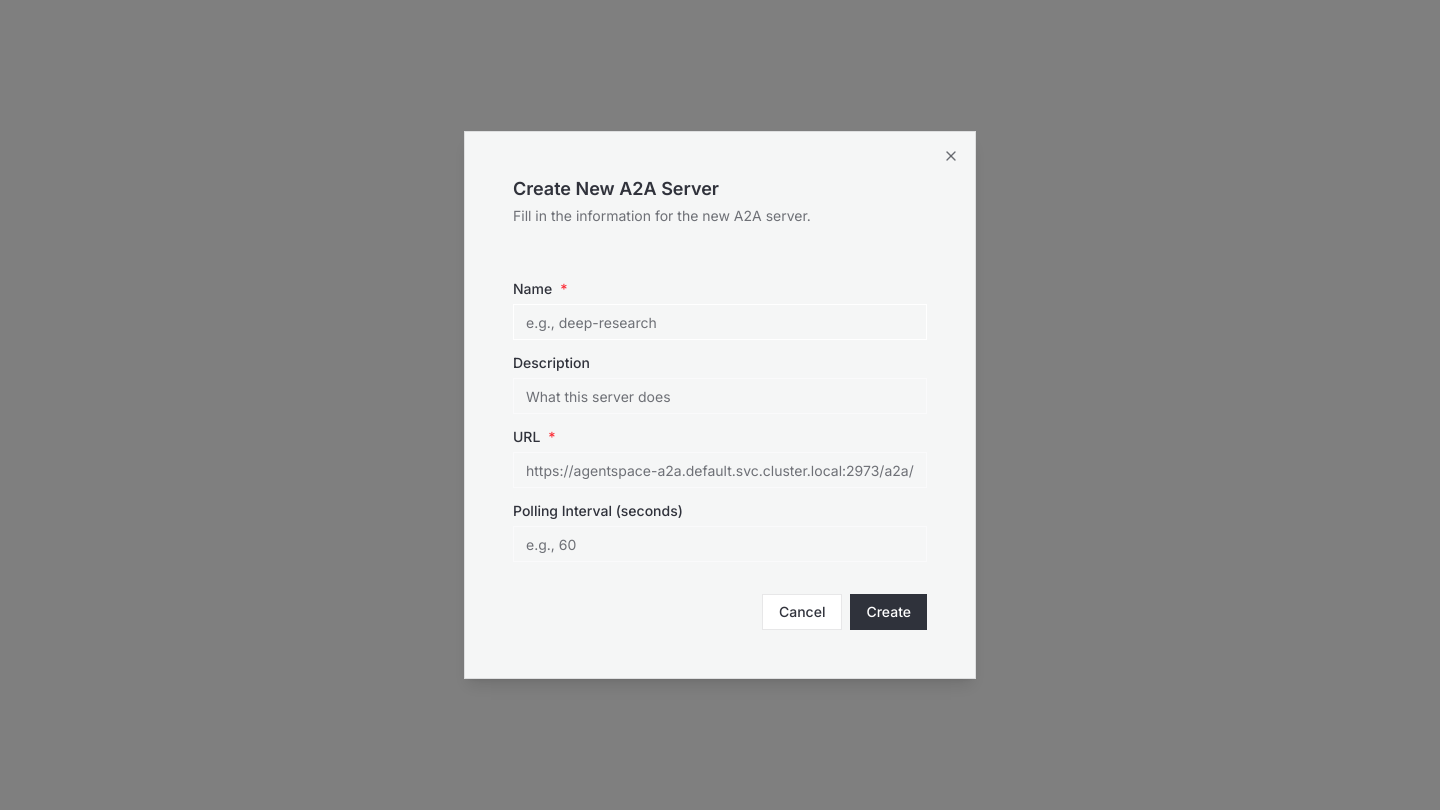
Test: A2AEditor › validation › should show error for invalid URL format
This screenshot has width=1440, height=810.
Type "valid-name" into the field with placeholder "e.g., deep-research" at [720, 322], box [513,304,927,340]
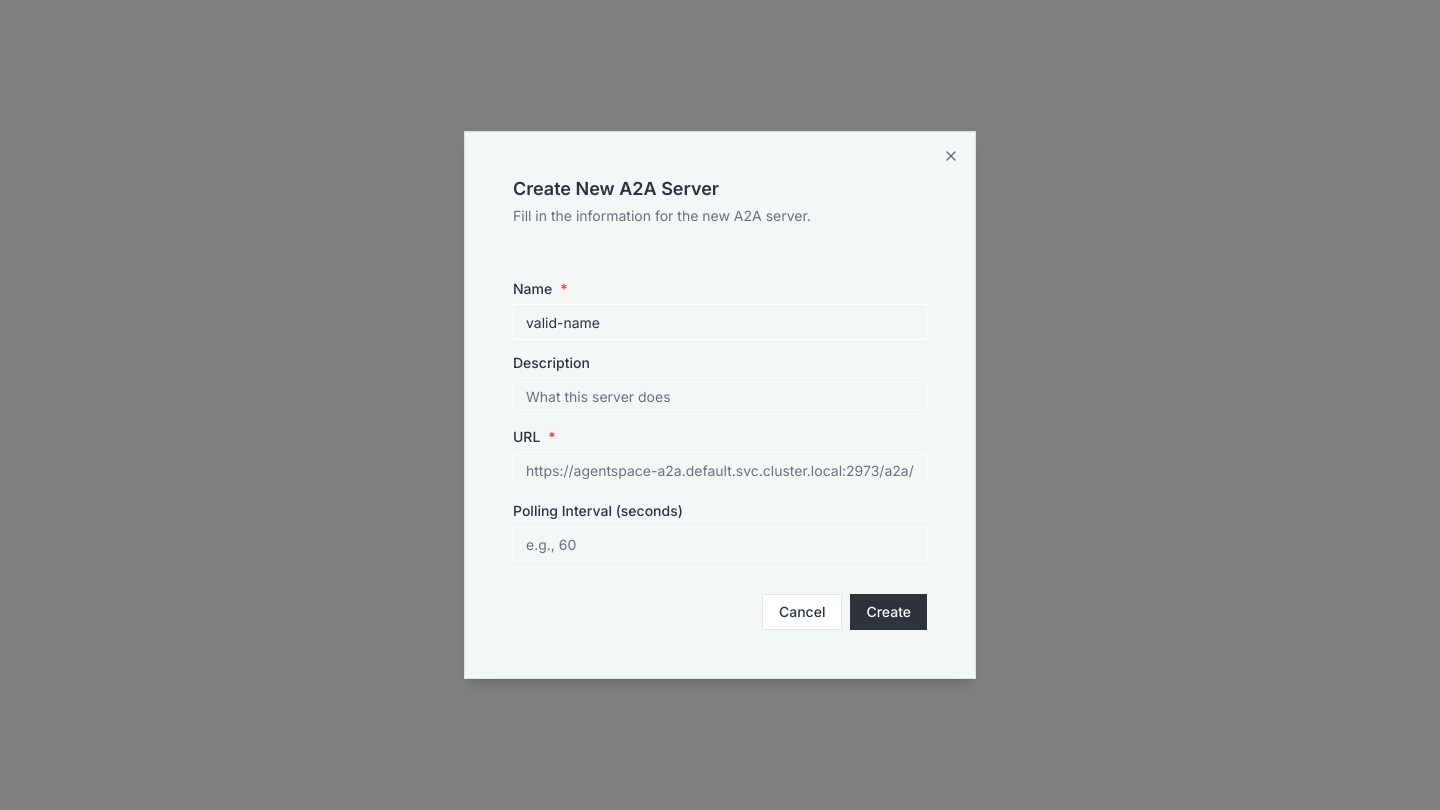
Type "not-a-valid-url" into the field with placeholder "https://agentspace-a2a" at [720, 470], box [513,452,927,488]
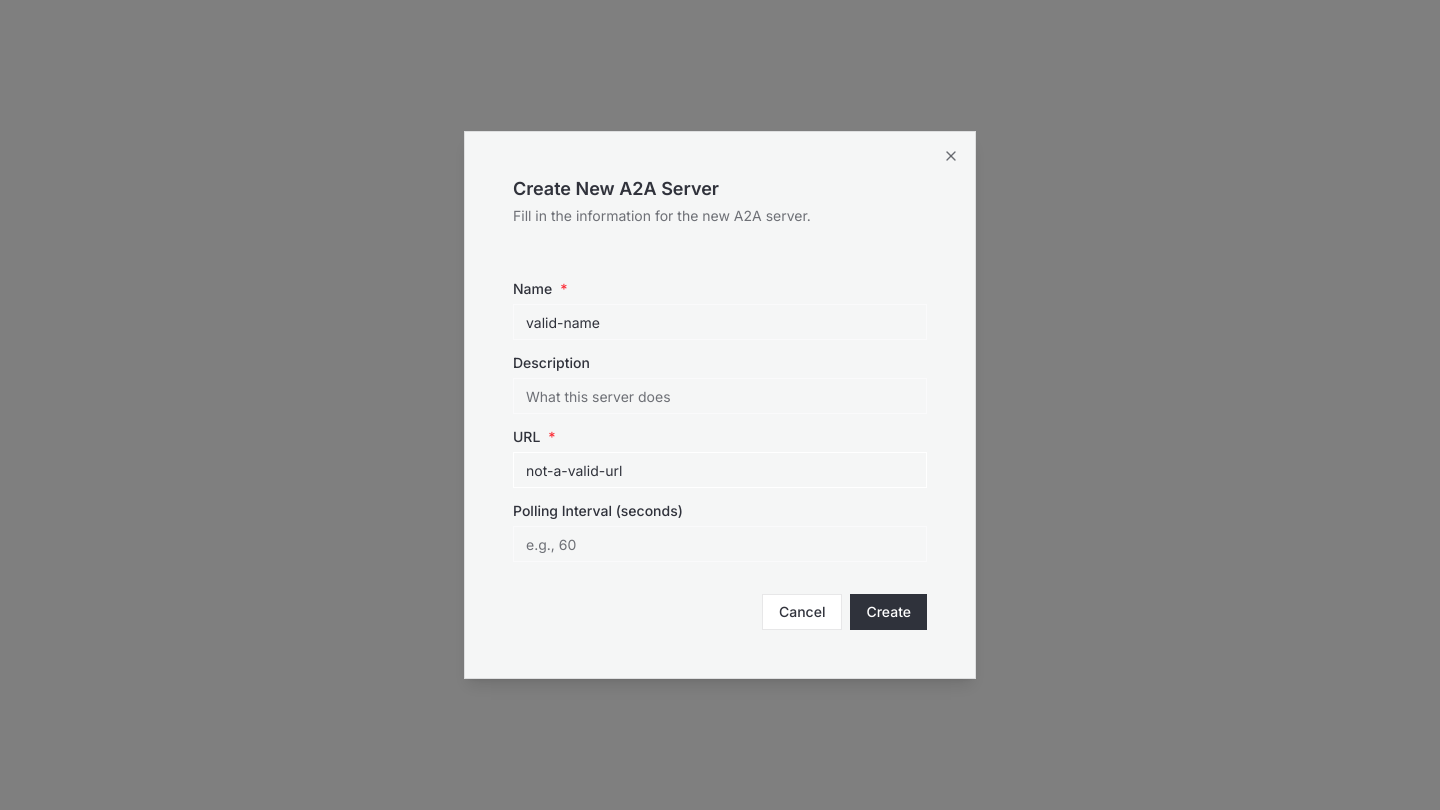
Click the button "Create" at [889, 612], box [850,594,927,630]
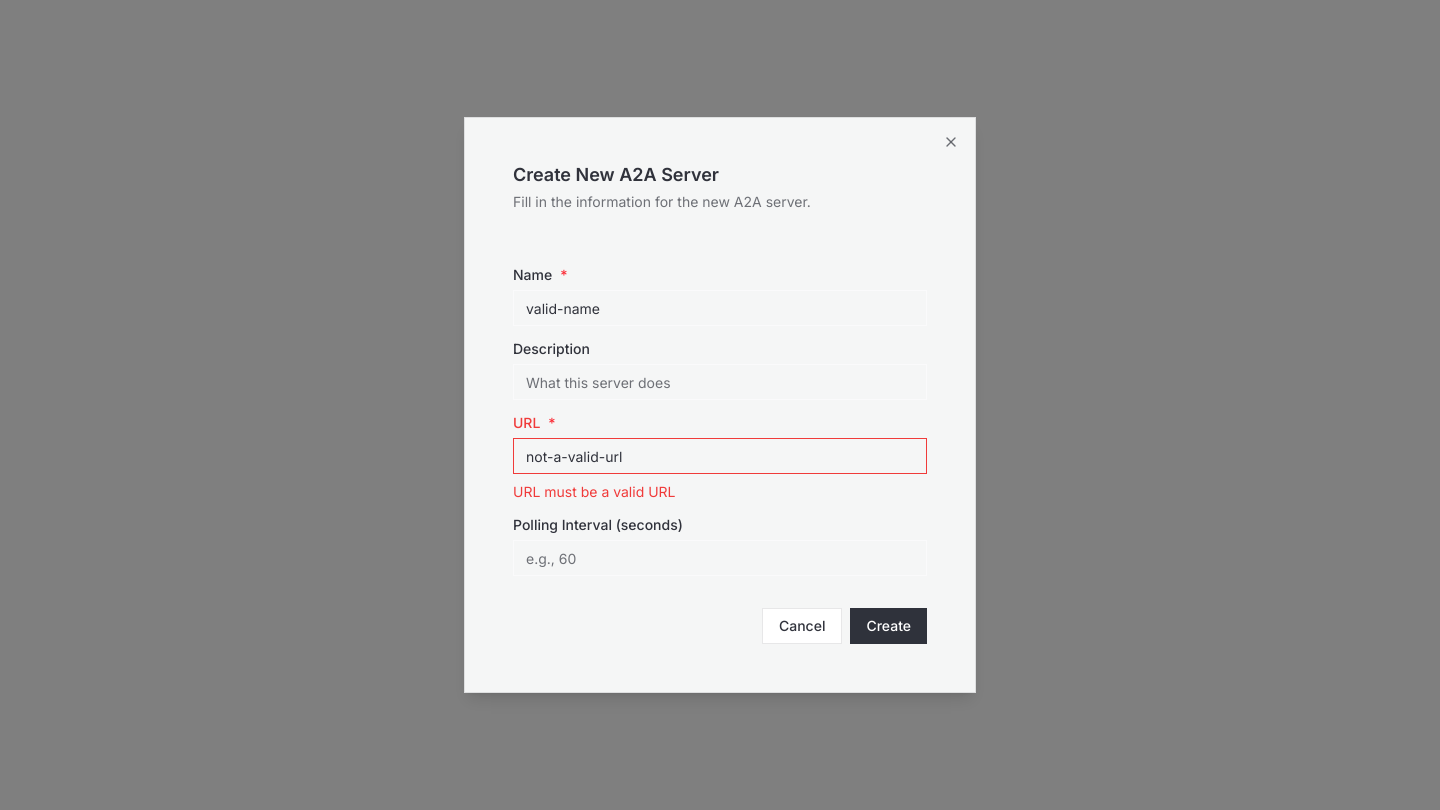
expect the text "URL must be a valid URL" is shown: met, box [513,483,676,500]
